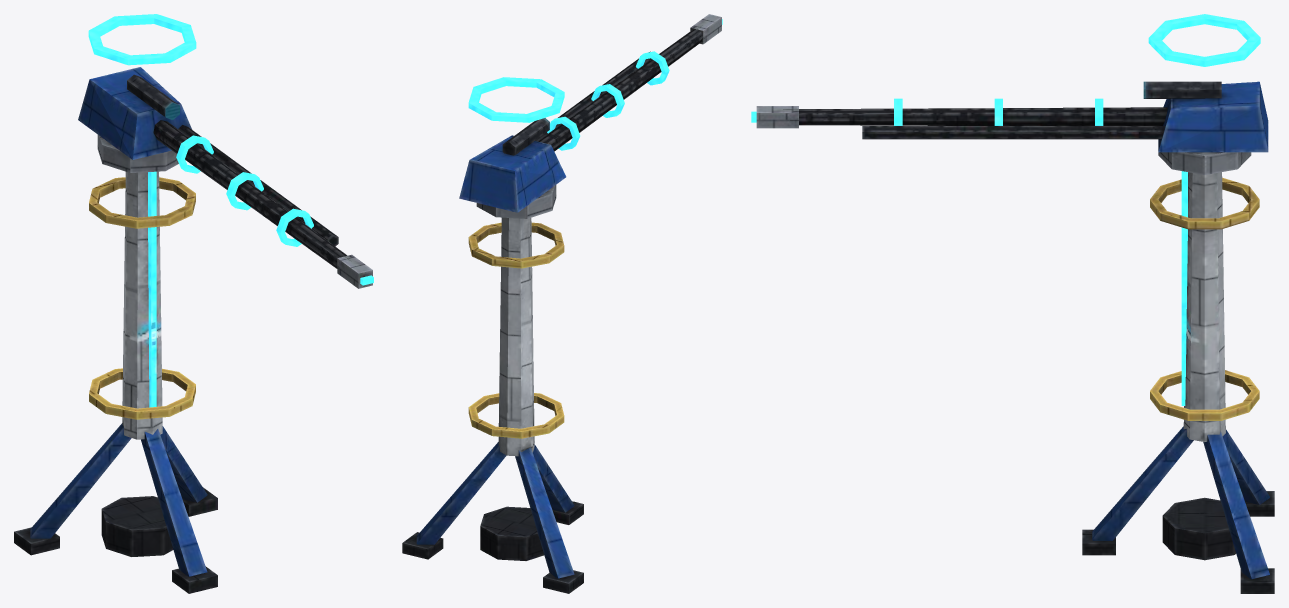
Rendered from u_spire4_w.glb.
The picture shows the model from 3 angles, left to right: view 1: azimuth 30°, elevation 25°; view 2: azimuth 150°, elevation 25°; view 3: azimuth 270°, elevation 25°; orthographic projection. The views are drawn at different scales.
Visible parts, largest first — view 1: u_spire4_w; view 2: u_spire4_w; view 3: u_spire4_w.
Boxes of the visible parts, <box> form: u_spire4_w: <box>14,14,373,593</box>; u_spire4_w: <box>402,14,722,593</box>; u_spire4_w: <box>751,14,1274,593</box>.
Bounding box in the file's own units: 1.25 × 3.25 × 3.02.
Materials: 1 (1 with a texture image).
